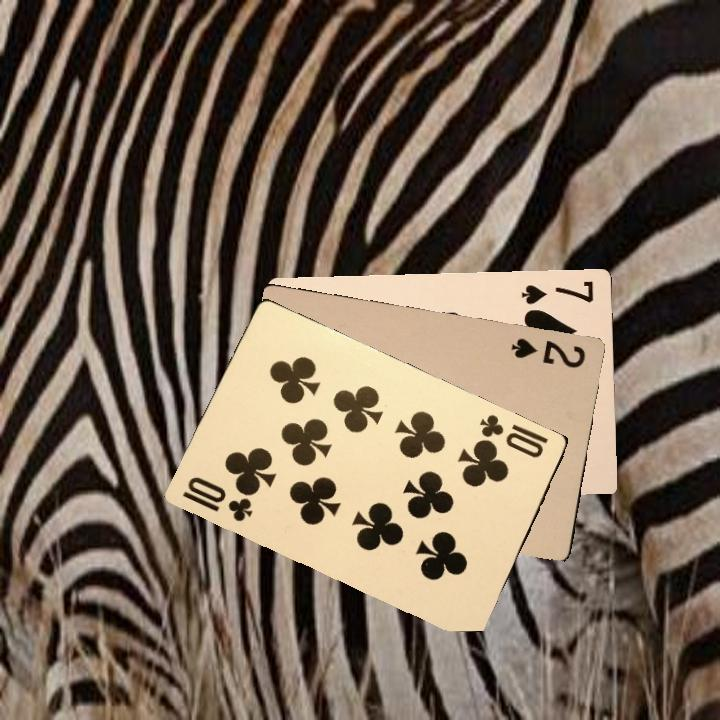10c: (178, 472, 255, 524), (475, 410, 551, 461)
2s: (508, 334, 588, 371)
7s: (518, 276, 596, 307)
